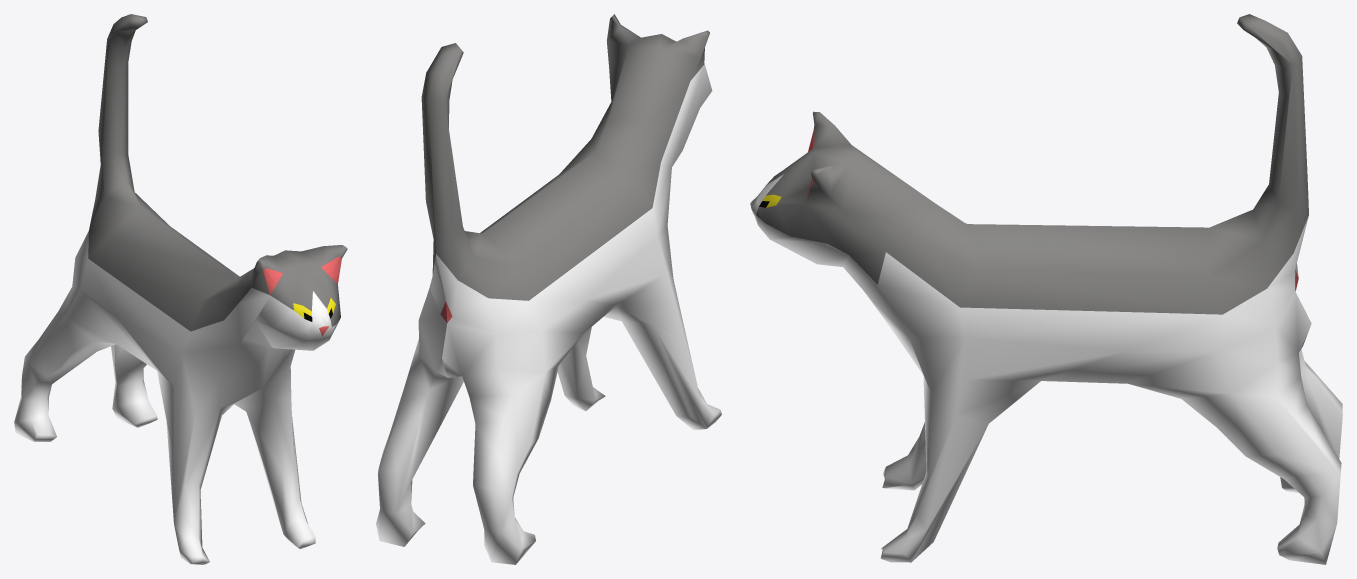
File: Sam.gltf
3 views of the same model, side by side, from view 1: azimuth 30°, elevation 25°; view 2: azimuth 150°, elevation 25°; view 3: azimuth 270°, elevation 25° (orthographic). The views are drawn at different scales.
Parts seen in each view (by area): view 1: Sam; view 2: Sam; view 3: Sam.
Boxes of the visible parts, box(x1,y1,x2,y2) form: Sam: box(14, 14, 347, 564); Sam: box(376, 14, 721, 564); Sam: box(750, 14, 1342, 564).
Bounding box in the file's own units: 0.2473 × 0.7495 × 0.7587.
Materials: 1 (1 with a texture image).
